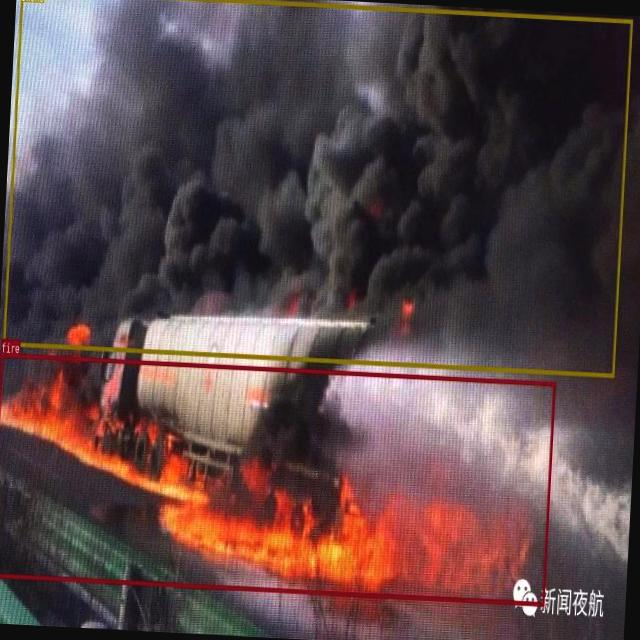fire: (0, 351, 555, 605)
smoke: (2, 0, 632, 377)
